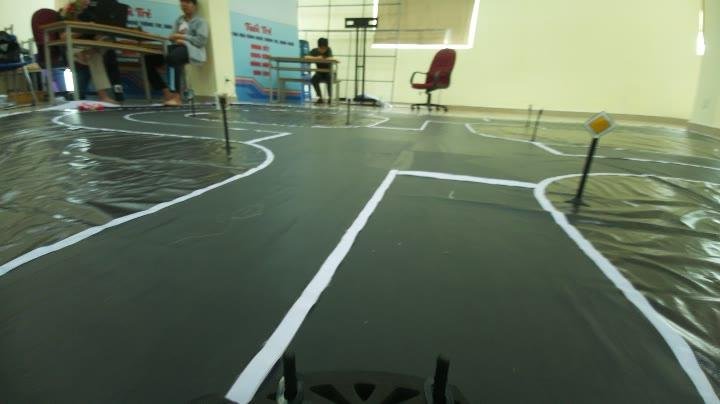priority: (574, 105, 620, 141)
